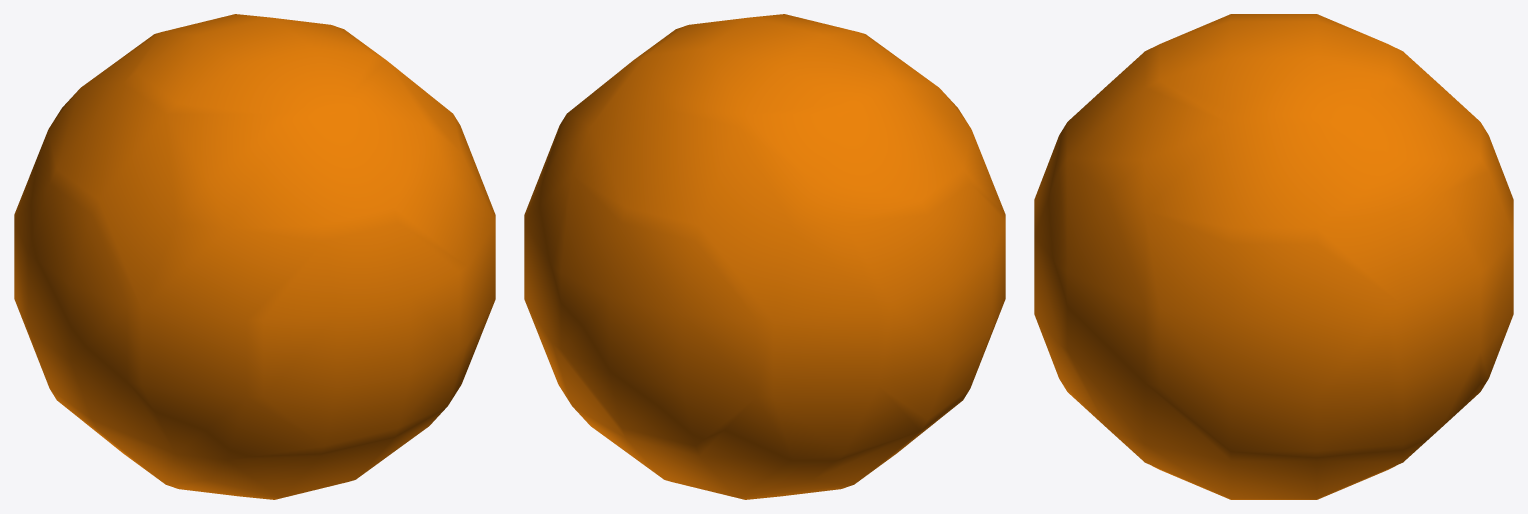
File: sun.fbx
3 renders of one model, left to right at view 1: azimuth 30°, elevation 25°; view 2: azimuth 150°, elevation 25°; view 3: azimuth 270°, elevation 25°, orthographic.
Parts seen in each view (by area): view 1: МСфера; view 2: МСфера; view 3: МСфера.
Boxes of the visible parts, <box> form: МСфера: <box>14,14,495,499</box>; МСфера: <box>524,14,1005,499</box>; МСфера: <box>1034,14,1513,499</box>.
Bounding box in the file's own units: 11151 × 11151 × 11151.
